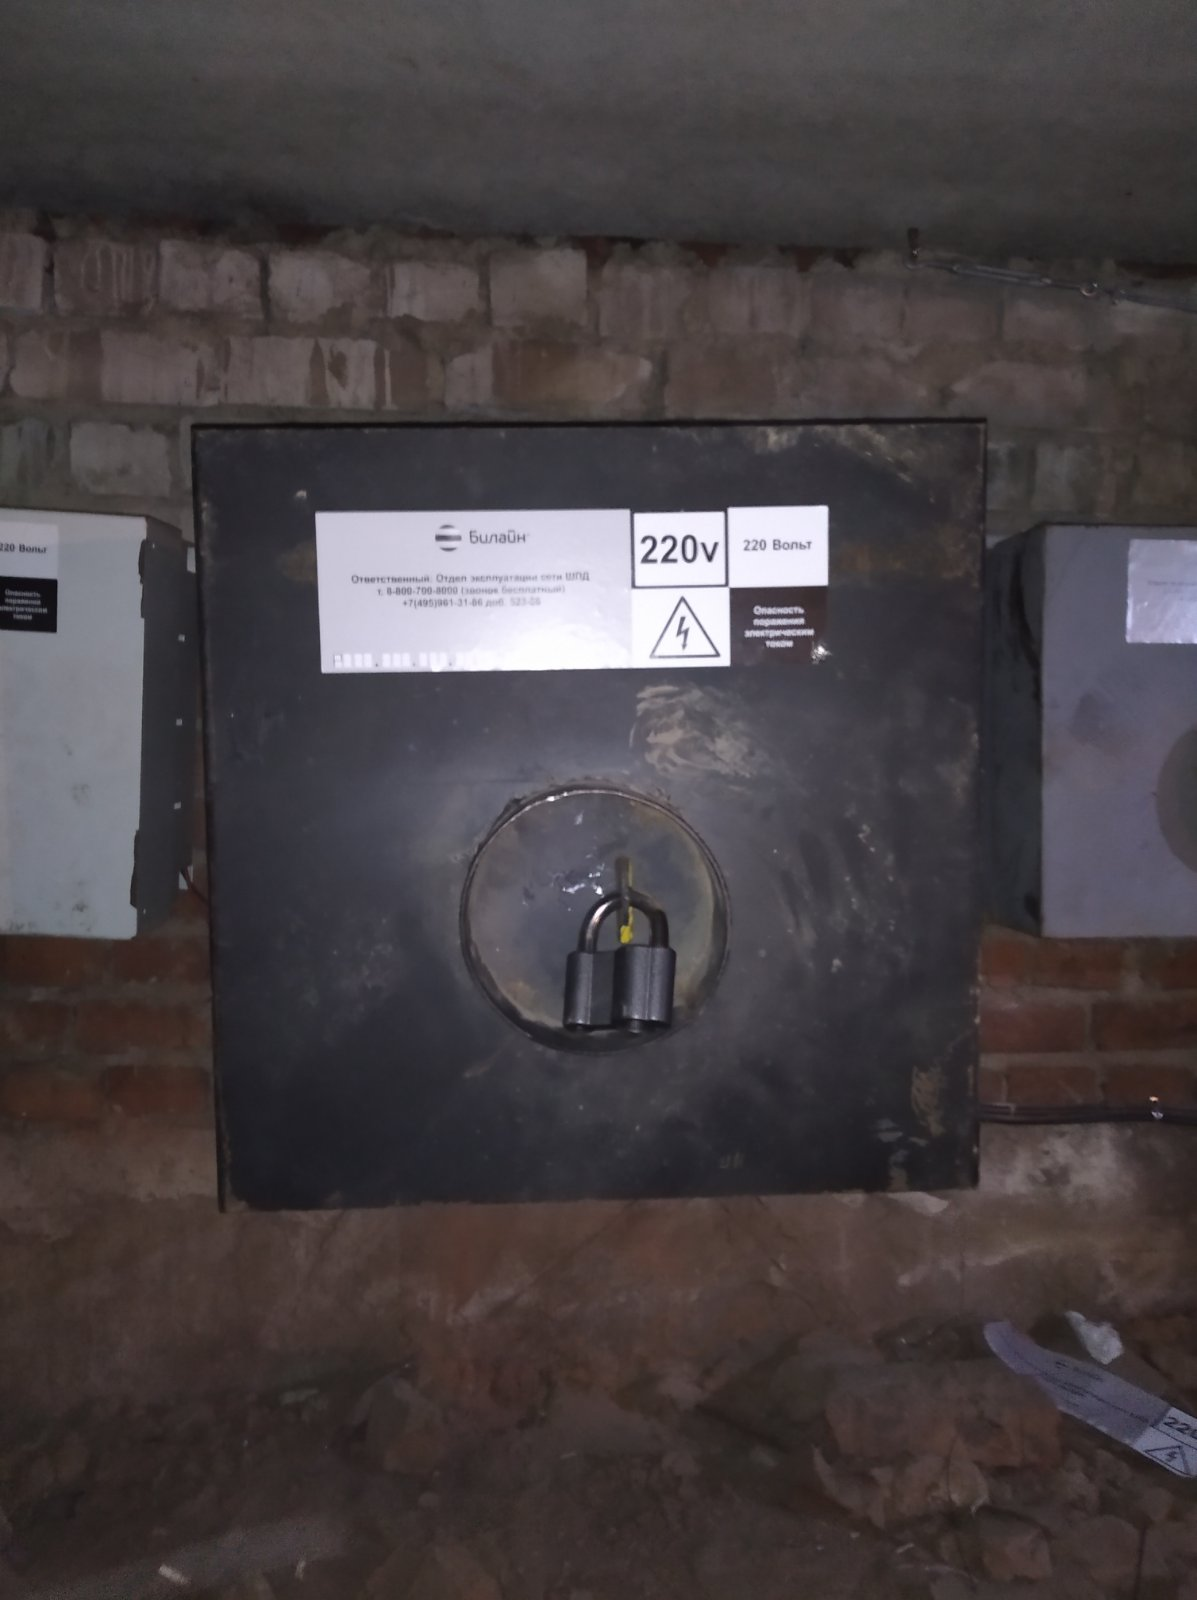shta-9: (174, 402, 1013, 1213)
